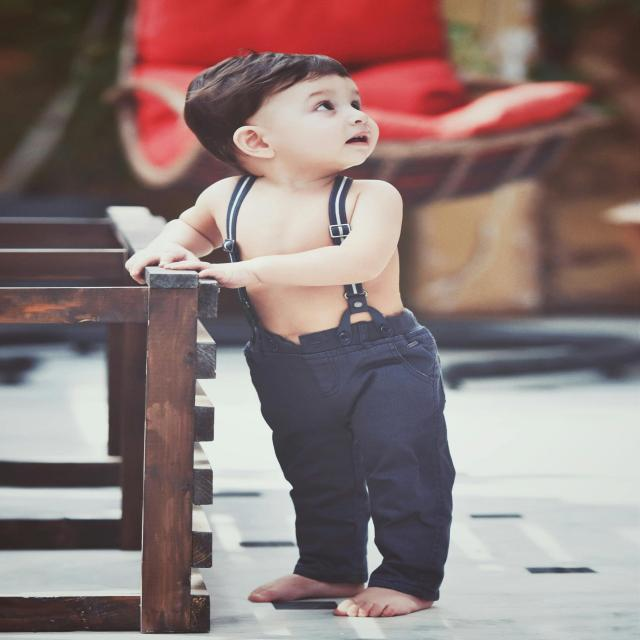stand: (169, 43, 465, 621)
